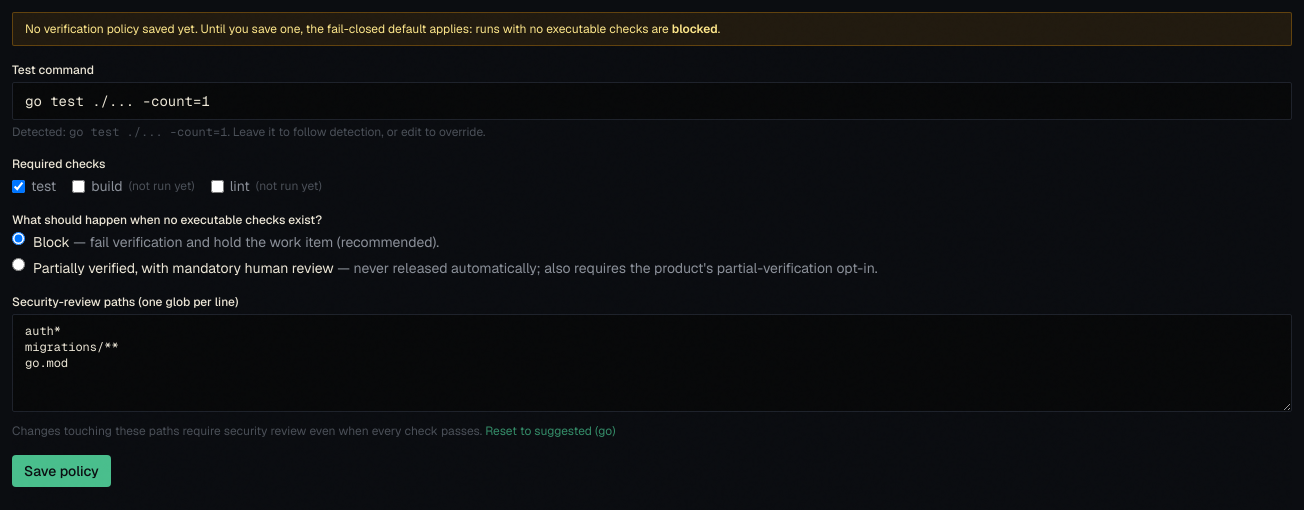
Scenario: RepositoryVerificationPolicyEditor and VerificationPolicyStep › admin mode loads and saves with PUT
Click the button "Save policy". click: click(61, 471)
box: left=12, top=455, right=111, bottom=487
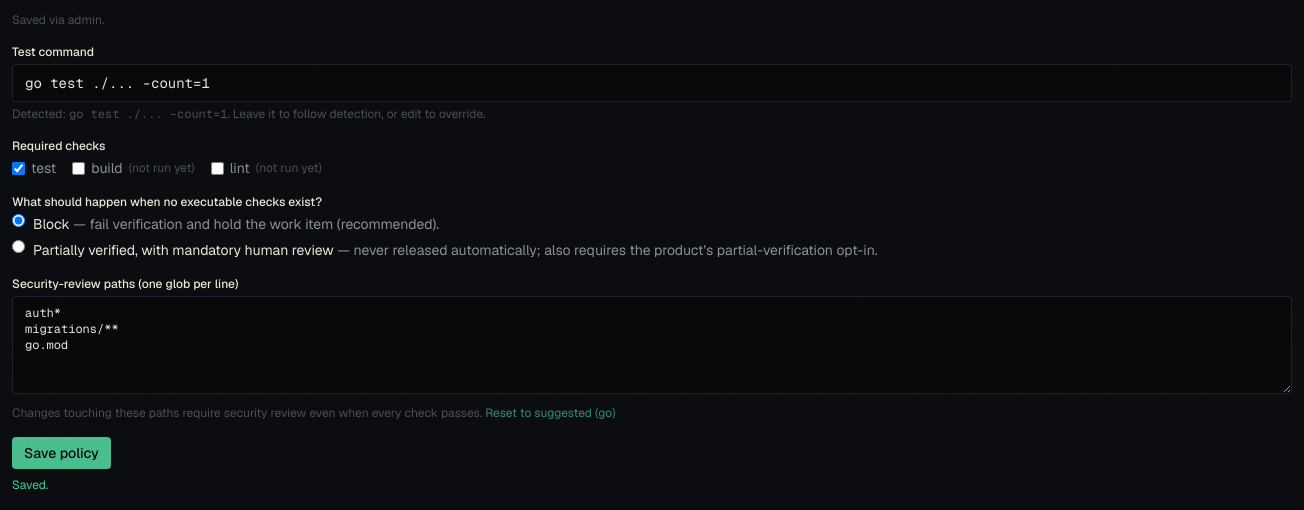
Check: the text "Saved." is shown, box left=12, top=477, right=48, bottom=493
